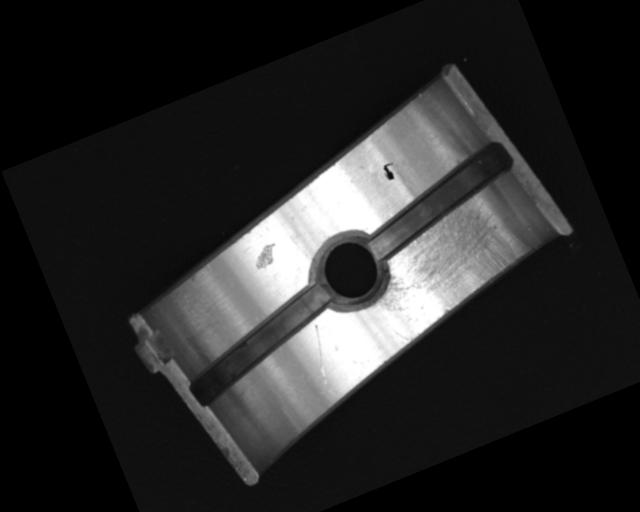blot: (380, 160, 399, 182)
bruise: (249, 241, 282, 272)
gap: (170, 279, 349, 408), (350, 137, 529, 265)
hole: (305, 221, 397, 318)
nick: (302, 324, 339, 384)
scratch: (347, 178, 543, 348)
